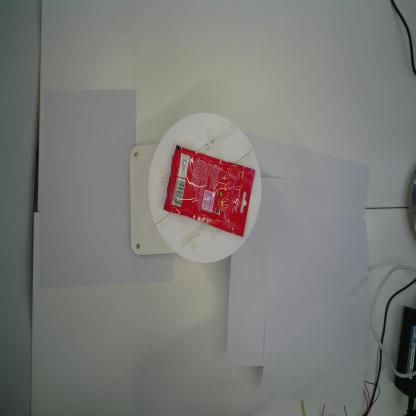Candy: (162, 144, 256, 238)
